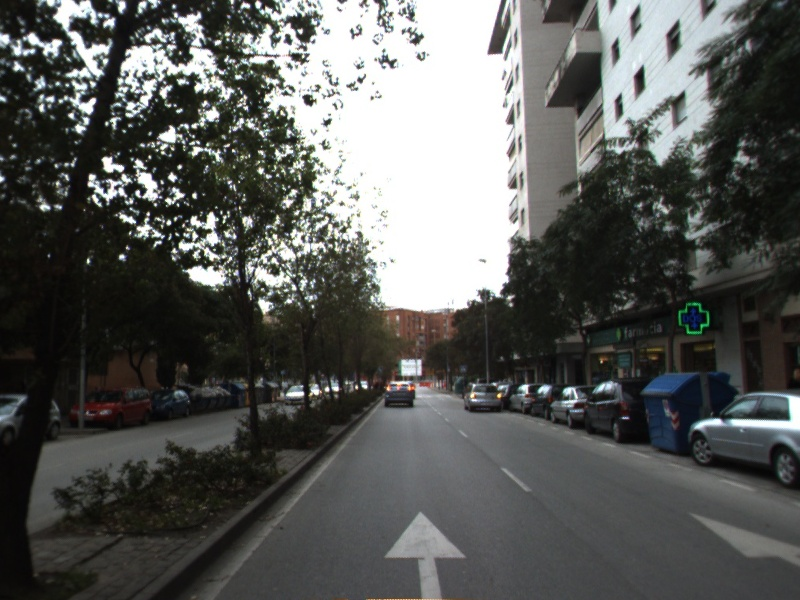STRAIGHT: (382, 506, 471, 600)
